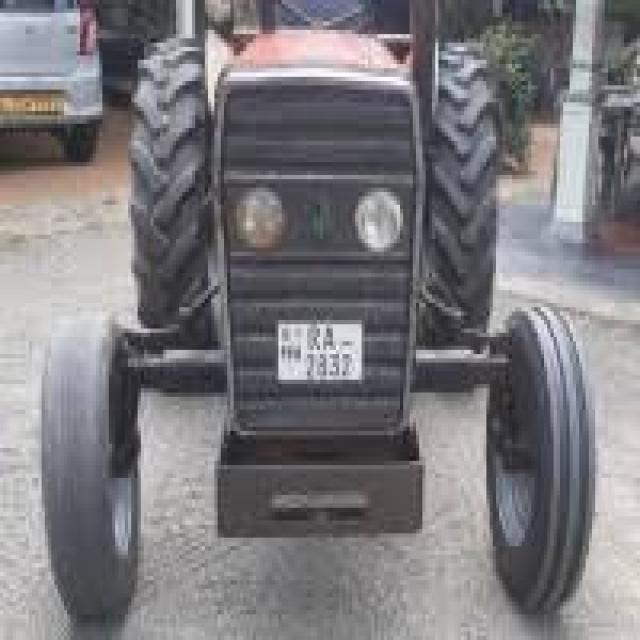car: (0, 0, 99, 158)
tractor: (42, 34, 637, 636)
